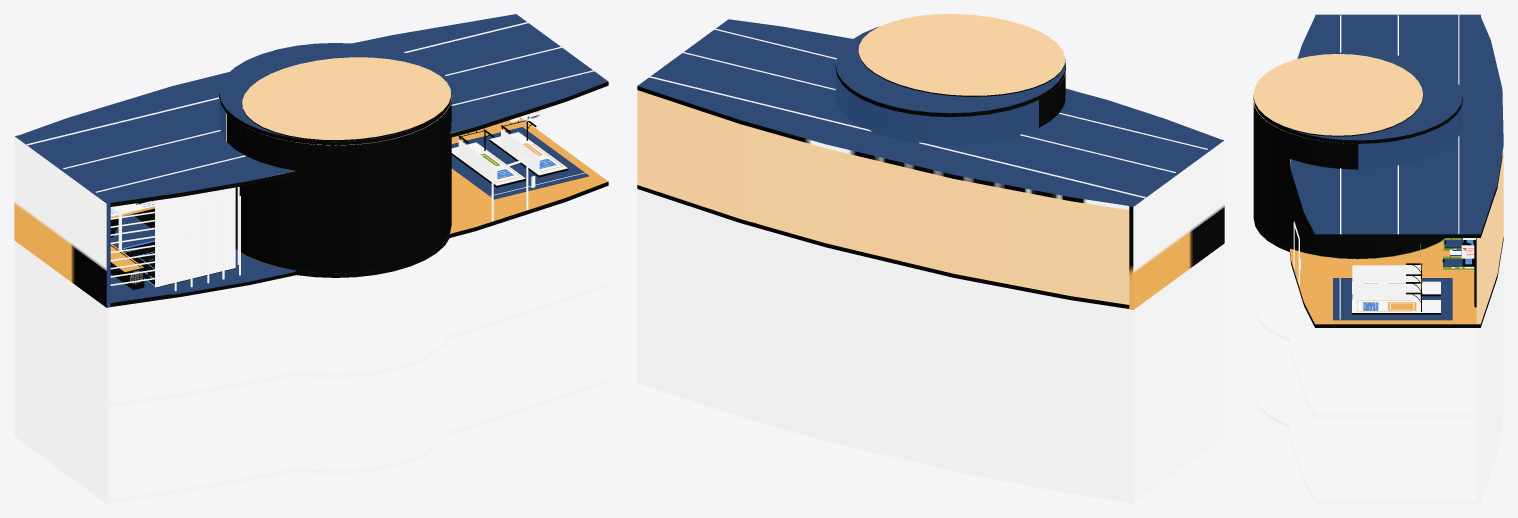
The model's file is 休闲娱乐.fbx.
3 renders of one model, left to right at view 1: azimuth 30°, elevation 25°; view 2: azimuth 150°, elevation 25°; view 3: azimuth 270°, elevation 25°, orthographic. The views are drawn at different scales.
Parts seen in each view (by area): view 1: 酒店, 圆柱_23, 圆柱_24, 立方体_5_4, 挤压_1, 立方体_3_4, 立方体_4, 立方体_7_6, 立方体_6_2, 立方体_5, 立方体_7_5, 立方体_4_4 (+2 smaller); view 2: 酒店, 圆柱_24, 立方体_2_5, 圆柱_23; view 3: 酒店, 圆柱_24, 圆柱_23, 立方体_3_4, 立方体_4_4, 立方体_1_4, 立方体_7_6, 立方体_7_5, 立方体_2_5.
Part boxes in pixels (<box>): 酒店: <box>14,14,608,503</box>; 圆柱_23: <box>227,100,451,273</box>; 圆柱_24: <box>242,57,451,141</box>; 立方体_5_4: <box>155,187,235,287</box>; 挤压_1: <box>110,213,296,302</box>; 立方体_3_4: <box>451,127,588,199</box>; 立方体_4: <box>110,244,144,289</box>; 立方体_7_6: <box>489,132,568,177</box>; 立方体_6_2: <box>122,240,235,287</box>; 立方体_5: <box>110,200,154,237</box>; 立方体_7_5: <box>451,142,525,187</box>; 立方体_4_4: <box>458,139,497,185</box>; 酒店: <box>637,19,1224,503</box>; 圆柱_24: <box>858,14,1065,96</box>; 立方体_2_5: <box>649,76,1145,198</box>; 圆柱_23: <box>1039,72,1065,127</box>; 酒店: <box>1253,14,1503,503</box>; 圆柱_24: <box>1253,54,1423,136</box>; 圆柱_23: <box>1253,103,1444,259</box>; 立方体_3_4: <box>1333,278,1452,320</box>; 立方体_4_4: <box>1352,265,1420,281</box>; 立方体_1_4: <box>1352,284,1420,300</box>; 立方体_7_6: <box>1352,300,1440,314</box>; 立方体_7_5: <box>1352,281,1440,296</box>; 立方体_2_5: <box>1458,14,1459,234</box>.
Bounding box in the file's own units: 1915 × 1219 × 922.
